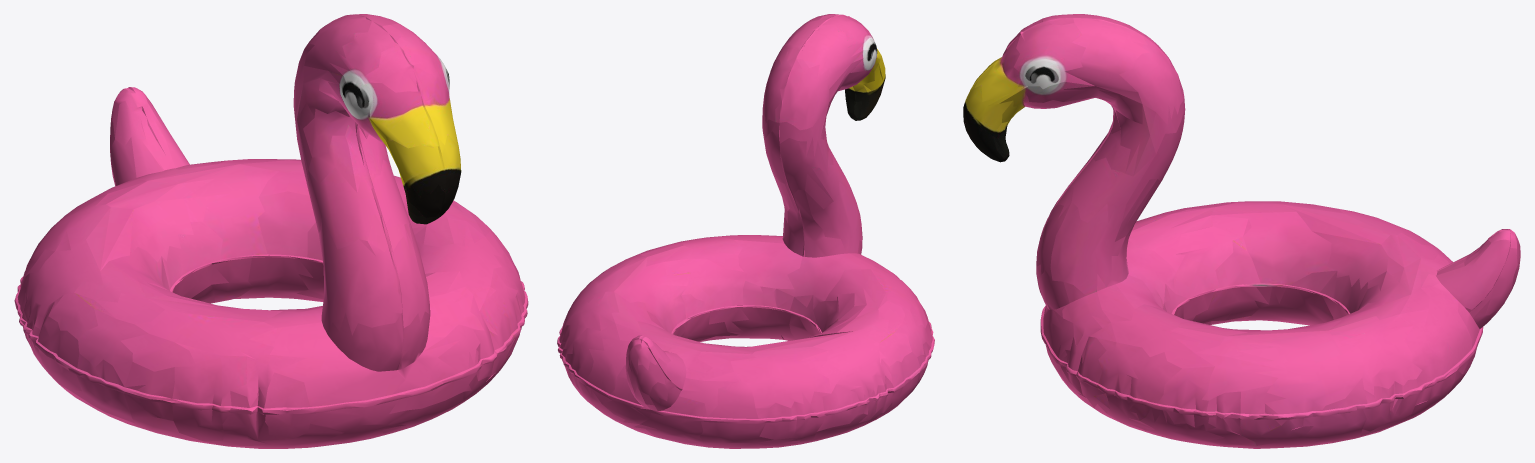
File: float_flamingo.fbx
The picture shows the model from 3 angles, left to right: view 1: azimuth 30°, elevation 25°; view 2: azimuth 150°, elevation 25°; view 3: azimuth 270°, elevation 25°; orthographic projection. The views are drawn at different scales.
Visible parts, largest first — view 1: Mesh_0; view 2: Mesh_0; view 3: Mesh_0.
Part boxes in pixels (x1,y1,x2,y2): Mesh_0: (14,14,528,448); Mesh_0: (557,14,934,448); Mesh_0: (963,14,1520,448).
Size of the model in its own units: 1.5 by 1.37 by 1.9.
1 material, 1 textured.
